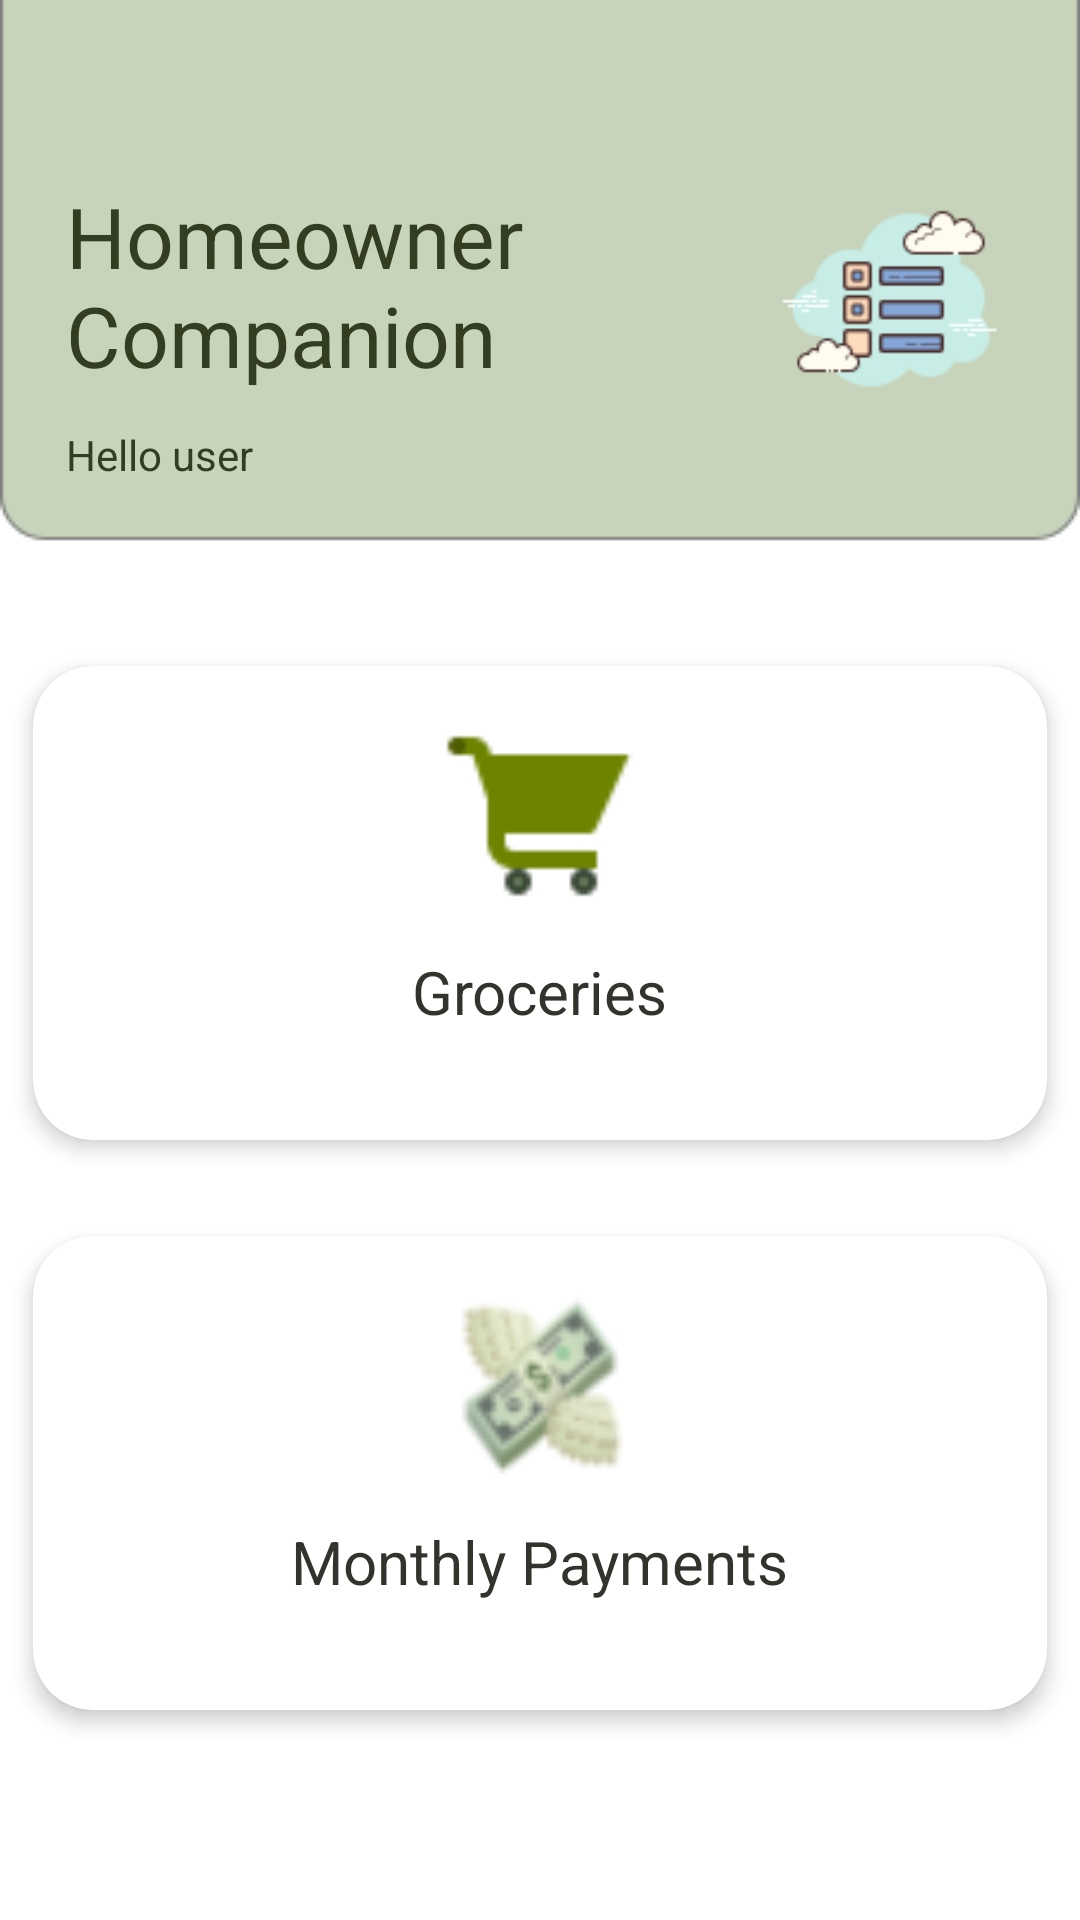

Icons on this 1080 x 1920 Android screen, each with the point to tap as (x=x, y=y):
money with wings: (x=542, y=1387)
shopping cart: (x=538, y=815)
